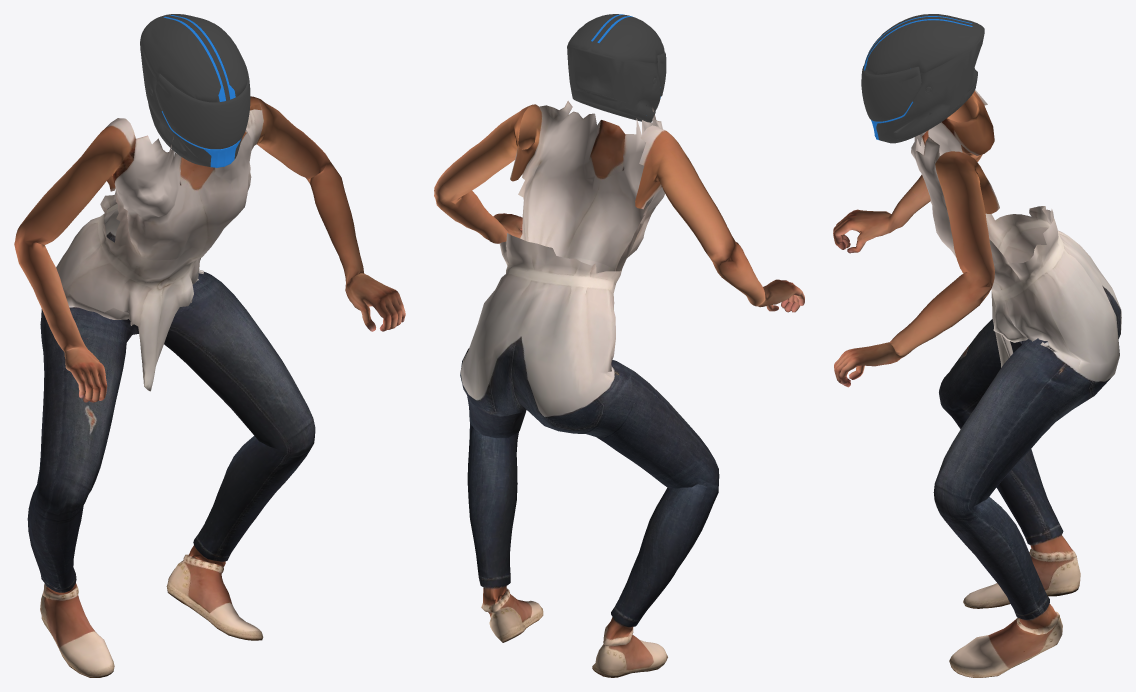
3 views of the same model, side by side, from view 1: azimuth 30°, elevation 25°; view 2: azimuth 150°, elevation 25°; view 3: azimuth 270°, elevation 25° (orthographic). The views are drawn at different scales.
Visible parts, largest first — view 1: rider, helmet; view 2: rider, helmet; view 3: rider, helmet.
Part boxes in pixels (box(x1,y1,x2,y2)): rider: box(14, 96, 405, 677); helmet: box(140, 14, 250, 167); rider: box(434, 101, 804, 677); helmet: box(567, 14, 666, 122); rider: box(833, 89, 1121, 677); helmet: box(861, 14, 984, 143).
Bounding box in the file's own units: 0.7823 × 1.49 × 0.6264.
Materials: 2 (2 with a texture image).
